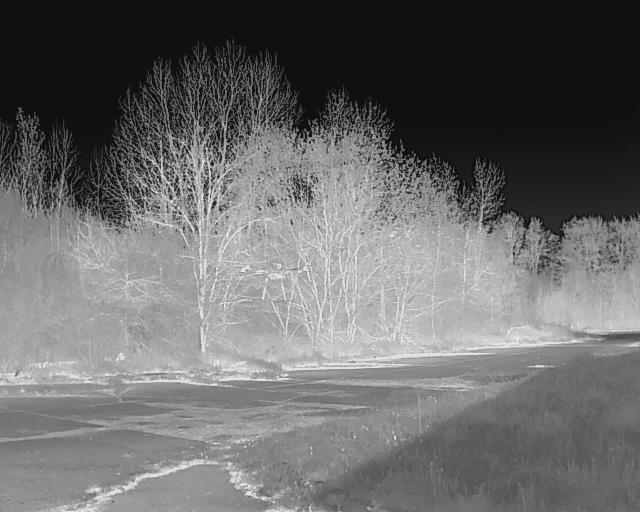drone: (227, 250, 318, 318)
